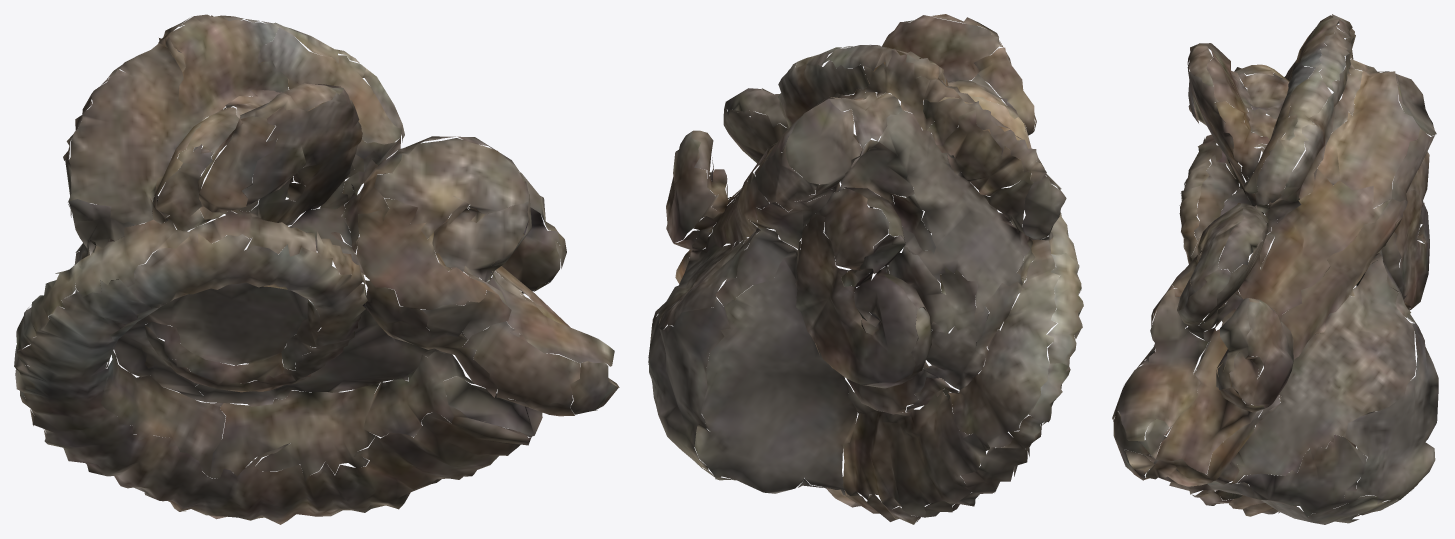
File: si_ammonite_exiteloceras.gltf
The picture shows the model from 3 angles, left to right: view 1: azimuth 30°, elevation 25°; view 2: azimuth 150°, elevation 25°; view 3: azimuth 270°, elevation 25°; orthographic projection. The views are drawn at different scales.
Visible parts, largest first — view 1: mesh_0; view 2: mesh_0; view 3: mesh_0.
Boxes of the visible parts, x1,y1,x2,y2 form: mesh_0: (14, 14, 619, 524); mesh_0: (648, 14, 1083, 524); mesh_0: (1112, 14, 1438, 524).
Size of the model in its own units: 0.1416 by 0.14 by 0.0929.
Materials: 1 (1 with a texture image).
